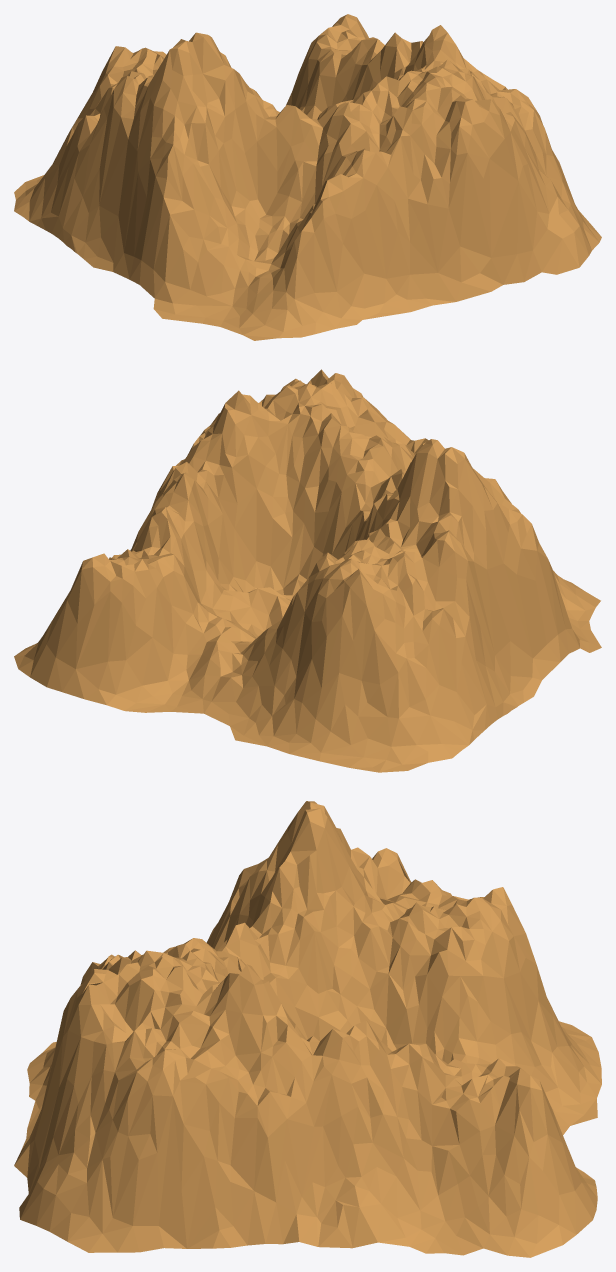
Rendered from Mounting_2.fbx.
3 views of the same model, one above another, from view 1: azimuth 30°, elevation 25°; view 2: azimuth 150°, elevation 25°; view 3: azimuth 270°, elevation 25° (orthographic). The views are drawn at different scales.
Parts seen in each view (by area): view 1: Mounting_2; view 2: Mounting_2; view 3: Mounting_2.
Boxes of the visible parts, <box> form: Mounting_2: <box>14,14,601,340</box>; Mounting_2: <box>14,369,601,772</box>; Mounting_2: <box>14,801,601,1257</box>.
Bounding box in the file's own units: 1974 × 979 × 1970.
